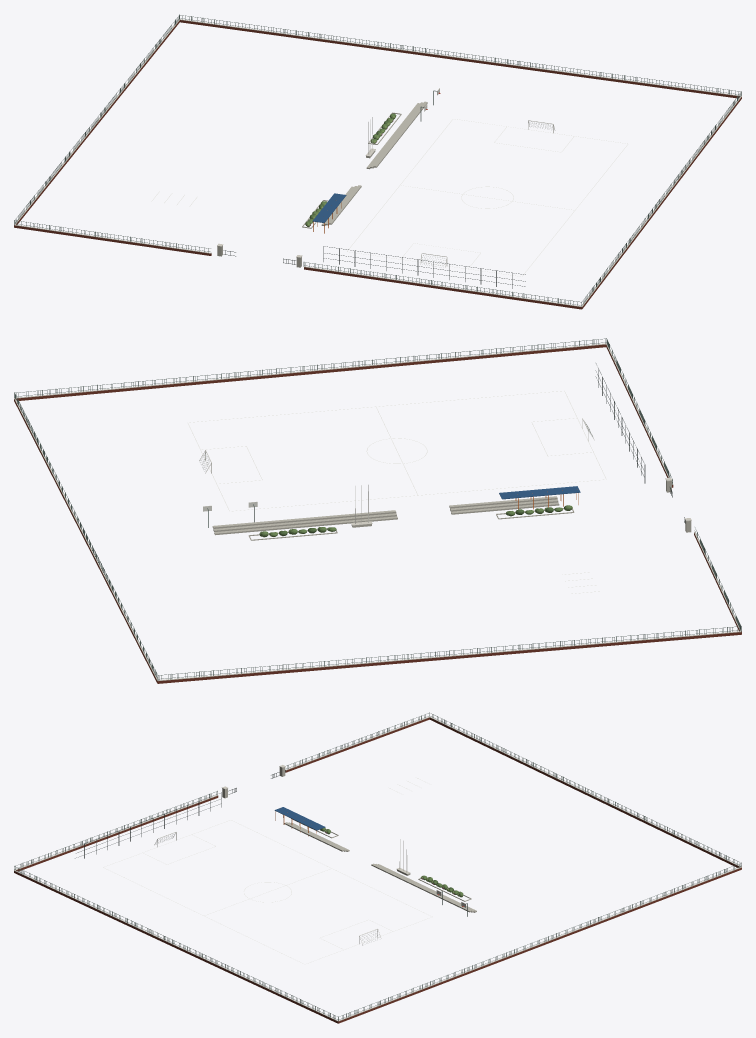
3 renders of one model, top to bottom at view 1: azimuth 30°, elevation 25°; view 2: azimuth 150°, elevation 25°; view 3: azimuth 270°, elevation 25°, orthographic. The views are drawn at different scales.
Visible parts, largest first — view 1: prop_boundary-fence, prop_field-stands, prop_field-lines, prop_backstop-fence, prop_flowerbeds; view 2: prop_boundary-fence, prop_field-stands, prop_flowerbeds, prop_field-lines, prop_walkway-canopy; view 3: prop_boundary-fence, prop_field-stands, prop_backstop-fence.
Part boxes in pixels (<box>): prop_boundary-fence: <box>14,14,741,309</box>; prop_field-stands: <box>321,101,427,225</box>; prop_field-lines: <box>347,119,627,276</box>; prop_backstop-fence: <box>323,246,525,288</box>; prop_flowerbeds: <box>302,112,401,228</box>; prop_boundary-fence: <box>14,338,741,683</box>; prop_field-stands: <box>212,496,559,535</box>; prop_flowerbeds: <box>248,505,574,540</box>; prop_field-lines: <box>188,391,606,511</box>; prop_walkway-canopy: <box>499,486,580,509</box>; prop_boundary-fence: <box>14,712,741,1023</box>; prop_field-stands: <box>284,822,476,912</box>; prop_backstop-fence: <box>75,792,221,858</box>.
Size of the model in its own units: 165 by 8.2 by 167.
